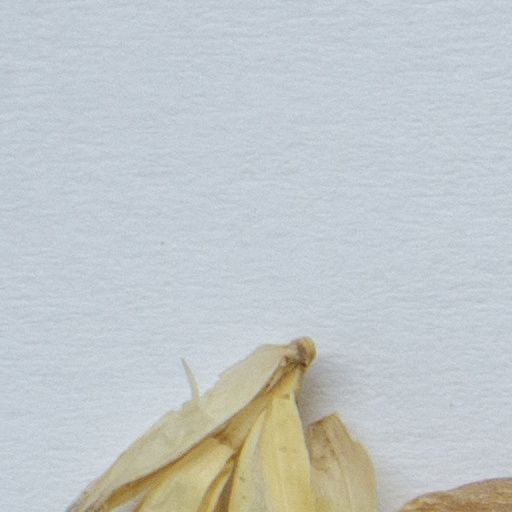Peel-poly: (57, 340, 380, 511)
